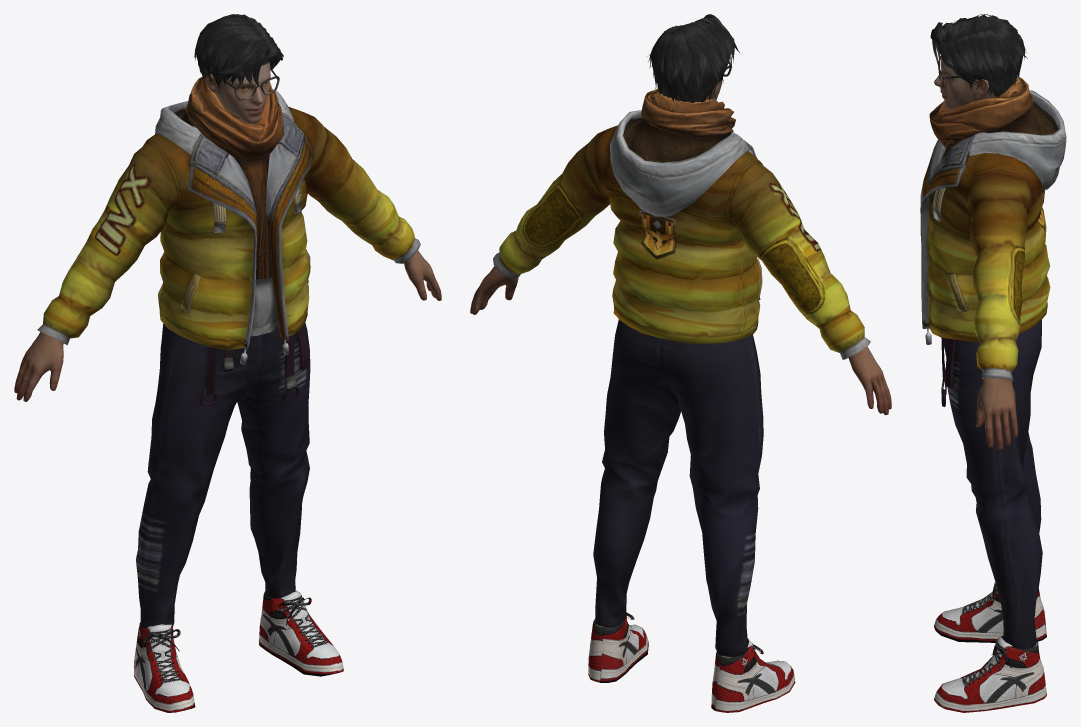
The model's file is free_fire_male_6.glb.
3 renders of one model, left to right at view 1: azimuth 30°, elevation 25°; view 2: azimuth 150°, elevation 25°; view 3: azimuth 270°, elevation 25°, orthographic.
Visible parts, largest first — view 1: Object_7, Object_6, Object_5, Object_3, Object_4, Object_2; view 2: Object_7, Object_6, Object_5, Object_3, Object_4; view 3: Object_7, Object_6, Object_5, Object_3, Object_4, Object_2.
Boxes of the visible parts, <box> form: Object_7: <box>37,76,420,365</box>; Object_6: <box>136,323,310,627</box>; Object_5: <box>134,590,343,712</box>; Object_3: <box>194,14,283,89</box>; Object_4: <box>14,111,441,401</box>; Object_2: <box>204,63,270,123</box>; Object_7: <box>493,88,870,359</box>; Object_6: <box>593,319,763,657</box>; Object_5: <box>588,612,795,712</box>; Object_3: <box>647,14,739,102</box>; Object_4: <box>470,266,891,415</box>; Object_7: <box>920,76,1066,381</box>; Object_6: <box>941,320,1042,649</box>; Object_5: <box>934,582,1046,712</box>; Object_3: <box>930,14,1027,97</box>; Object_4: <box>976,377,1017,450</box>; Object_2: <box>934,56,996,109</box>.
Bounding box in the file's own units: 4.7 × 7.04 × 1.43.
Materials: 7 (7 with a texture image).
